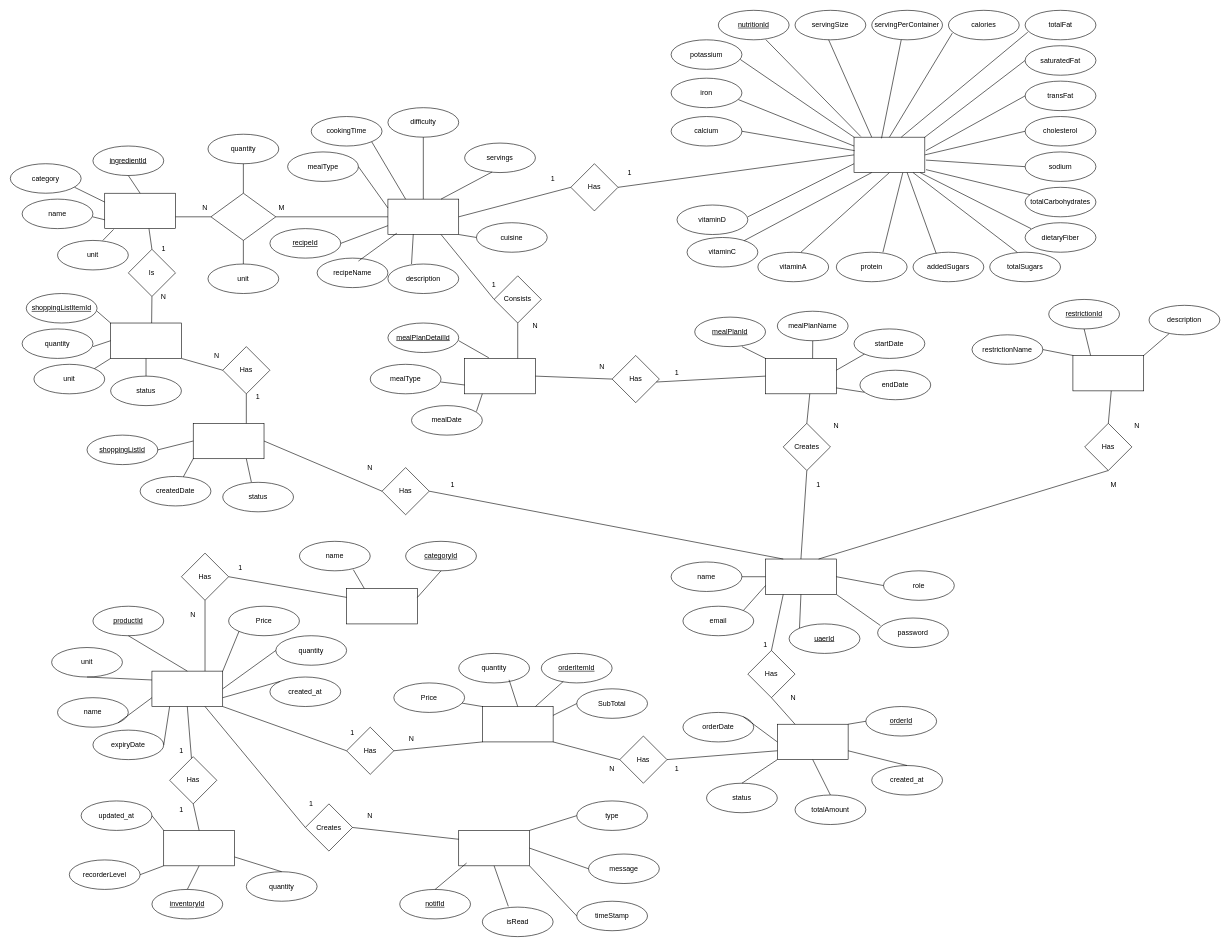
The diagram is 1230 pixels wide and 947 high, and some of its shapes have lost their labels. Here are the shapes that lost their labels. From the top down, the centre of each, then its label:
At point 889,155: "NutritionFacts".
At point 140,211: "Ingredients".
At point 243,216: "RecipeIngredient".
At point 423,217: "Recipes".
At point 145,340: "ShoppingListItems".
At point 499,376: "MealPlanDetails".
At point 800,376: "MealPlans".
At point 1108,373: "DietaryRestriction".
At point 228,441: "ShoppingLists".
At point 800,576: "User".
At point 381,606: "Categories".
At point 187,689: "Products".
At point 517,724: "OrderItems".
At point 812,742: "Orders".
At point 199,848: "Inventory".
At point 494,848: "Notifications".
